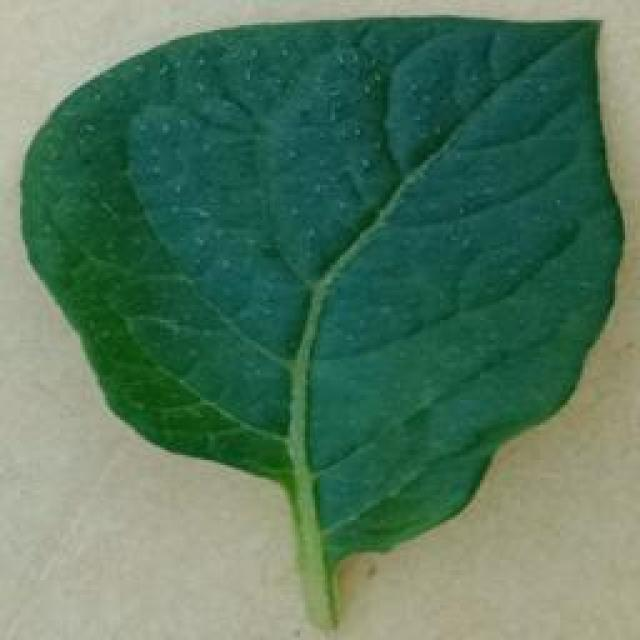Potato_Healthy: (16, 18, 618, 631)
